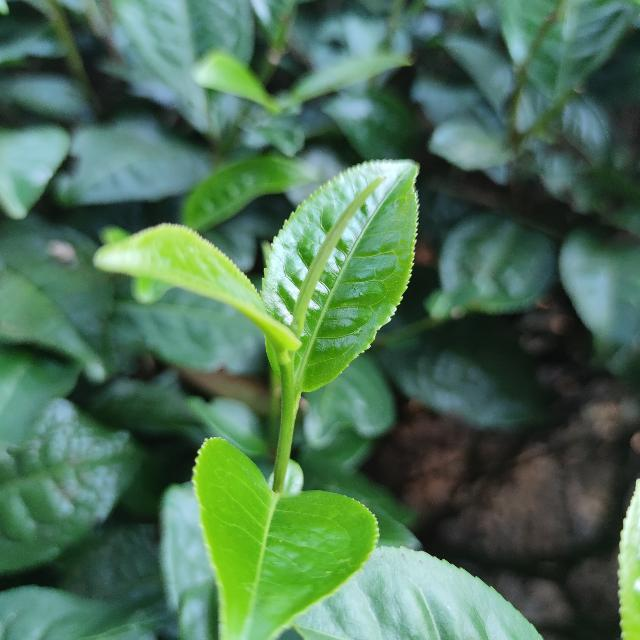Stem: (282, 359, 294, 380)
